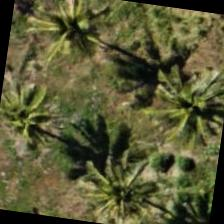Kelapa_Sawit: (125, 30, 223, 133), (0, 66, 89, 168), (20, 0, 121, 75), (154, 174, 216, 223)
